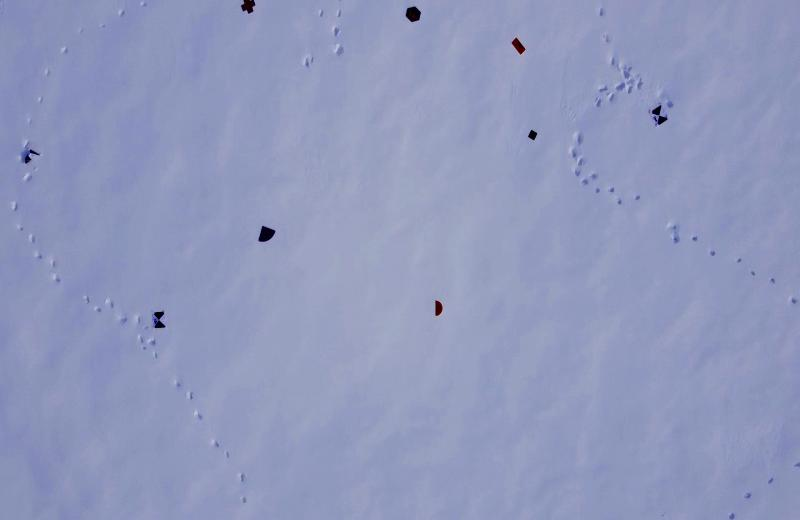Cross: (240, 0, 256, 16)
Hexagon: (404, 6, 422, 24)
Quarter Circle: (257, 224, 277, 244)
Rectangle: (512, 36, 526, 56)
Semi Circle: (433, 298, 445, 318)
Square: (527, 126, 539, 142)
